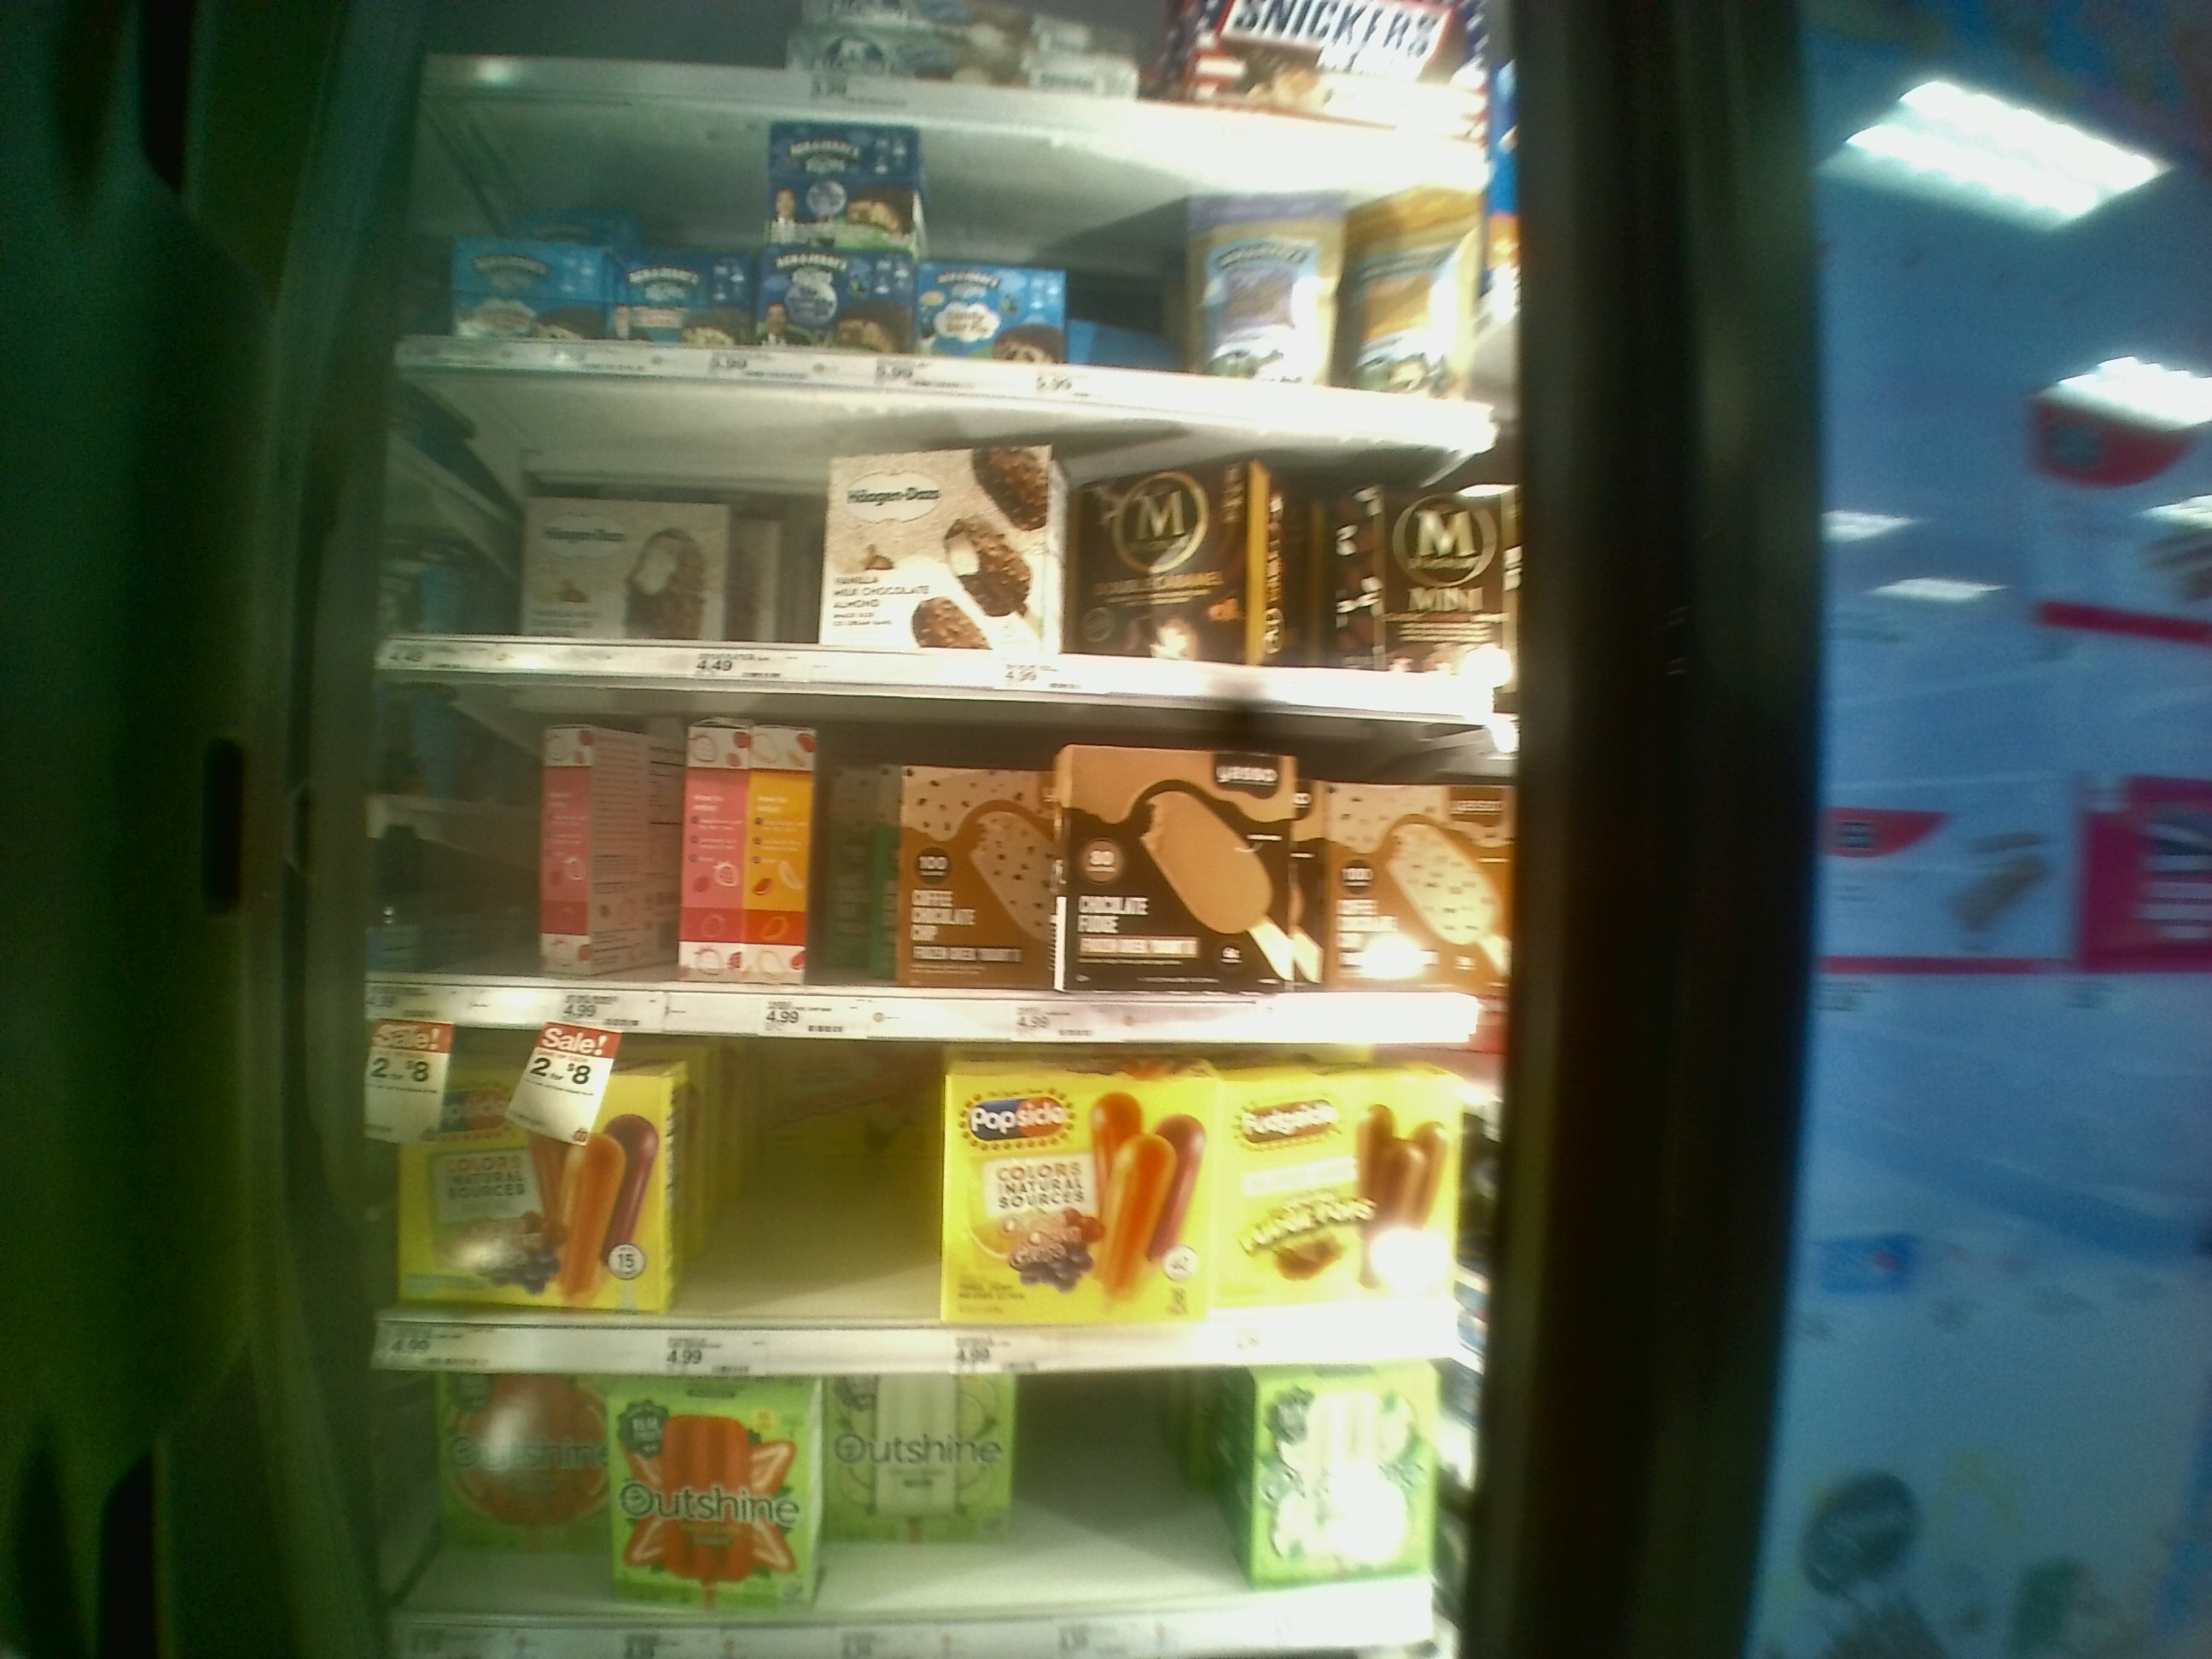shelf: (364, 1037, 1503, 1377), (355, 704, 1501, 1037)
